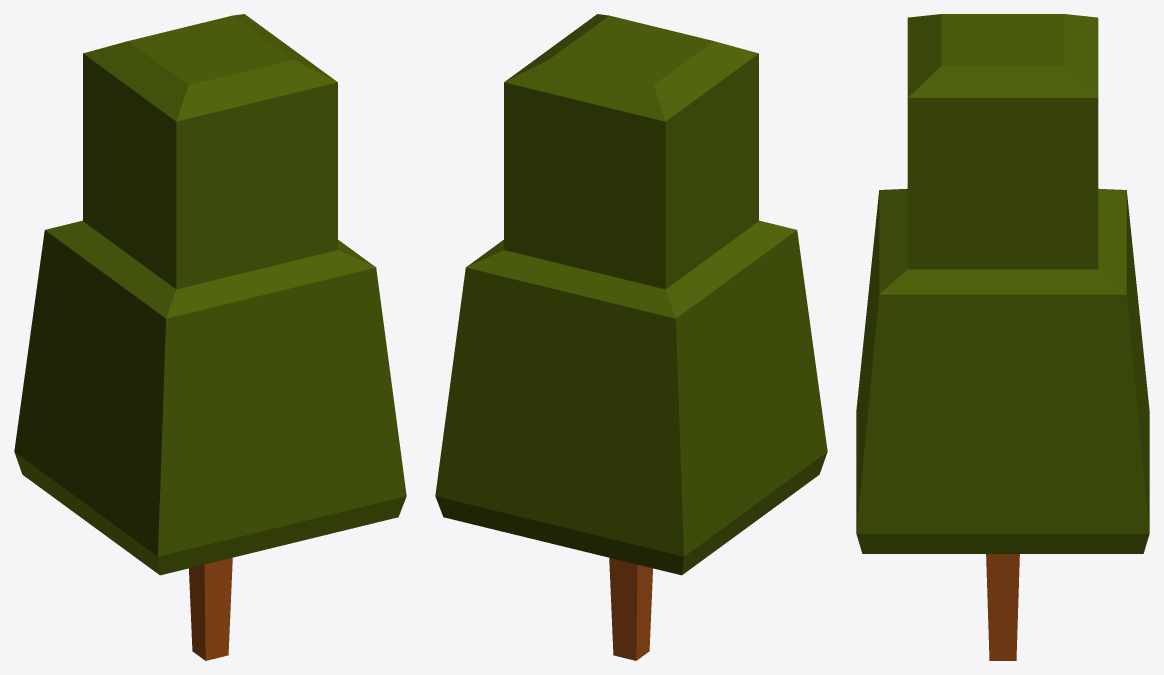
The model's file is Tree_36_Spring.fbx.
3 views of the same model, side by side, from view 1: azimuth 30°, elevation 25°; view 2: azimuth 150°, elevation 25°; view 3: azimuth 270°, elevation 25° (orthographic). The views are drawn at different scales.
Visible parts, largest first — view 1: Tree_36_Spring; view 2: Tree_36_Spring; view 3: Tree_36_Spring.
Boxes of the visible parts, x1=… form: Tree_36_Spring: x1=14, y1=14, x2=406, y2=660; Tree_36_Spring: x1=435, y1=14, x2=827, y2=660; Tree_36_Spring: x1=856, y1=14, x2=1149, y2=660.
Size of the model in its own units: 154 by 356 by 154.
